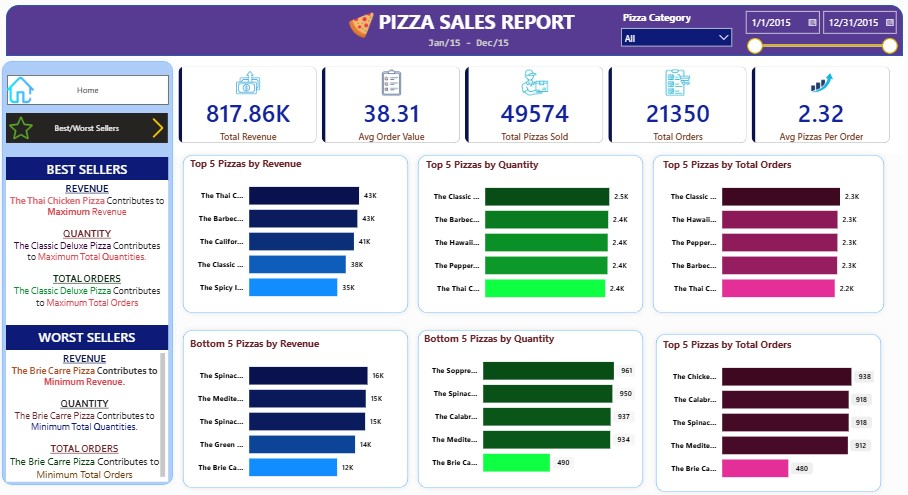

Layout of this report page (visuals, bound fields, positions):
{"tool":"powerbi","page":{"name":"Best/Worst Sellers","canvas":[1500,820],"ordinal":1},"visuals":[{"type":"cardVisual","fields":{"Data":["pizza db pizza_sales.Total Revenue","pizza db pizza_sales.Avg Order Value","pizza db pizza_sales.Total Pizzas Sold","pizza db pizza_sales.Total Orders","pizza db pizza_sales.Avg Pizzas Per Order"]},"box":[280.4,96.8,1205.4,160.7],"z":0},{"type":"shape","box":[0,96.8,296.8,711.8],"z":1000},{"type":"shape","box":[14.8,13.1,1471.1,83.6],"z":2000},{"type":"textbox","box":[606.8,13.1,359.2,83.6],"z":3000},{"type":"textbox","box":[698.6,60.7,149.2,36.1],"z":4000},{"type":"image","box":[575.6,24.6,44.3,42.6],"z":5000},{"type":"shape","box":[296.8,250.9,385.4,275.5],"z":6000},{"type":"textbox","box":[14.8,262.4,265.7,37.7],"z":7000},{"type":"textbox","box":[14.8,300.1,265.7,237.8],"z":8000},{"type":"textbox","box":[14.8,537.9,265.7,41],"z":9000},{"type":"textbox","box":[14.8,578.9,265.7,216.5],"z":10000},{"type":"slicer","fields":{"Values":["pizza db pizza_sales.pizza_category"]},"box":[1013.5,18,201.7,83.6],"z":11000},{"type":"slicer","fields":{"Values":["pizza db pizza_sales.order_date"]},"box":[1215.2,13.1,270.6,95.1],"z":12000},{"type":"shape","box":[682.2,250.9,385.4,275.5],"z":13000},{"type":"shape","box":[1067.6,250.9,395.2,275.5],"z":14000},{"type":"shape","box":[296.8,537.9,385.4,275.5],"z":15000},{"type":"shape","box":[682.2,537.9,385.4,275.5],"z":16000},{"type":"shape","box":[1072.6,544.5,385.4,275.5],"z":17000},{"type":"barChart","title":"Top 5 Pizzas by Revenue","fields":{"Category":["pizza db pizza_sales.pizza_name"],"Y":["pizza db pizza_sales.Total Revenue"]},"box":[311.6,262.4,355.9,249.3],"z":18000},{"type":"barChart","title":"Bottom 5 Pizzas by Revenue","fields":{"Category":["pizza db pizza_sales.pizza_name"],"Y":["pizza db pizza_sales.Total Revenue"]},"box":[311.6,557.6,355.9,249.3],"z":19000},{"type":"barChart","title":"Top 5 Pizzas by Quantity","fields":{"Category":["pizza db pizza_sales.pizza_name"],"Y":["pizza db pizza_sales.Total Pizzas Sold"]},"box":[698.6,264,355.9,249.3],"z":20000},{"type":"barChart","title":"Bottom 5 Pizzas by Quantity","fields":{"Category":["pizza db pizza_sales.pizza_name"],"Y":["pizza db pizza_sales.Total Pizzas Sold"]},"box":[694.9,549.2,356.3,250],"z":21000},{"type":"barChart","title":"Top 5 Pizzas by Total Orders","fields":{"Category":["pizza db pizza_sales.pizza_name"],"Y":["pizza db pizza_sales.Total Orders"]},"box":[1087.3,264,355.9,249.3],"z":22000},{"type":"barChart","title":"Top 5 Pizzas by Total Orders","fields":{"Category":["pizza db pizza_sales.pizza_name"],"Y":["pizza db pizza_sales.Total Orders"]},"box":[1087.3,559.2,355.9,249.3],"z":23000},{"type":"pageNavigator","box":[14.8,190.2,265.7,49.2],"z":24000},{"type":"pageNavigator","box":[16.4,127.9,265.7,49.2],"z":25000},{"type":"image","box":[247.6,190.2,32.8,49.2],"z":26000},{"type":"image","box":[16.4,127.9,44.3,49.2],"z":27000},{"type":"image","box":[9.8,195.2,59,39.4],"z":28000}]}

Visuals, with their boxes in screenshot pixels (x1, y1, x2, y2), scaled from the page's 1500x820 canvas onto the 908x495 screenshot:
cardVisual - pizza db pizza_sales.Total Revenue x pizza db pizza_sales.Avg Order Value: {"x1": 170, "y1": 58, "x2": 899, "y2": 155}
shape: {"x1": 0, "y1": 58, "x2": 180, "y2": 488}
shape: {"x1": 9, "y1": 8, "x2": 899, "y2": 58}
textbox: {"x1": 367, "y1": 8, "x2": 585, "y2": 58}
textbox: {"x1": 423, "y1": 37, "x2": 513, "y2": 58}
image: {"x1": 348, "y1": 15, "x2": 375, "y2": 41}
shape: {"x1": 180, "y1": 151, "x2": 413, "y2": 318}
textbox: {"x1": 9, "y1": 158, "x2": 170, "y2": 181}
textbox: {"x1": 9, "y1": 181, "x2": 170, "y2": 325}
textbox: {"x1": 9, "y1": 325, "x2": 170, "y2": 349}
textbox: {"x1": 9, "y1": 349, "x2": 170, "y2": 480}
slicer - pizza db pizza_sales.pizza_category: {"x1": 614, "y1": 11, "x2": 736, "y2": 61}
slicer - pizza db pizza_sales.order_date: {"x1": 736, "y1": 8, "x2": 899, "y2": 65}
shape: {"x1": 413, "y1": 151, "x2": 646, "y2": 318}
shape: {"x1": 646, "y1": 151, "x2": 885, "y2": 318}
shape: {"x1": 180, "y1": 325, "x2": 413, "y2": 491}
shape: {"x1": 413, "y1": 325, "x2": 646, "y2": 491}
shape: {"x1": 649, "y1": 329, "x2": 883, "y2": 494}
"Top 5 Pizzas by Revenue" barChart: {"x1": 189, "y1": 158, "x2": 404, "y2": 309}
"Bottom 5 Pizzas by Revenue" barChart: {"x1": 189, "y1": 337, "x2": 404, "y2": 487}
"Top 5 Pizzas by Quantity" barChart: {"x1": 423, "y1": 159, "x2": 638, "y2": 310}
"Bottom 5 Pizzas by Quantity" barChart: {"x1": 421, "y1": 332, "x2": 636, "y2": 482}
"Top 5 Pizzas by Total Orders" barChart: {"x1": 658, "y1": 159, "x2": 874, "y2": 310}
"Top 5 Pizzas by Total Orders" barChart: {"x1": 658, "y1": 338, "x2": 874, "y2": 488}
pageNavigator: {"x1": 9, "y1": 115, "x2": 170, "y2": 145}
pageNavigator: {"x1": 10, "y1": 77, "x2": 171, "y2": 107}
image: {"x1": 150, "y1": 115, "x2": 170, "y2": 145}
image: {"x1": 10, "y1": 77, "x2": 37, "y2": 107}
image: {"x1": 6, "y1": 118, "x2": 42, "y2": 142}
